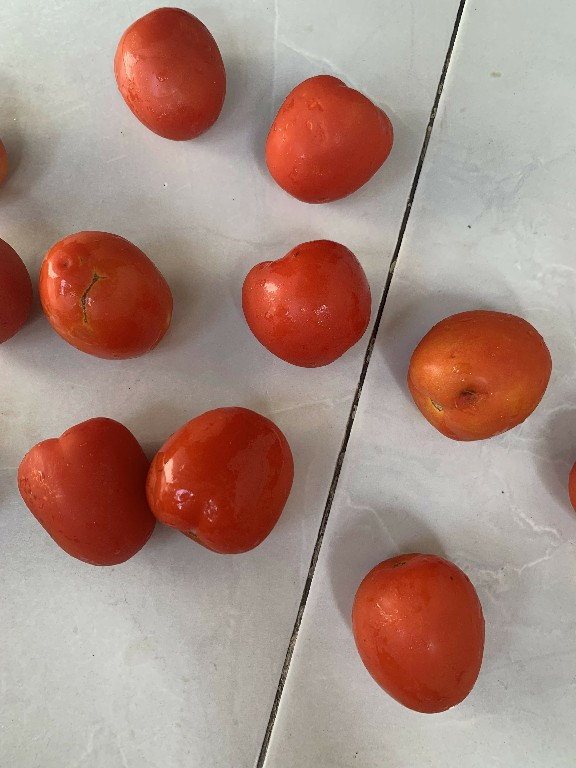NG: (400, 298, 560, 447), (31, 227, 179, 367)
OK: (343, 546, 492, 724), (144, 397, 301, 560), (11, 409, 161, 574), (257, 65, 399, 209), (237, 237, 375, 375), (109, 4, 232, 145)
